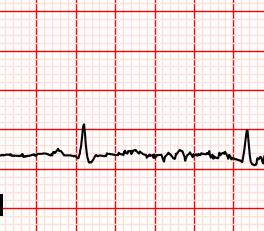Poor R Progression: (73, 120, 93, 157), (240, 126, 255, 166)
